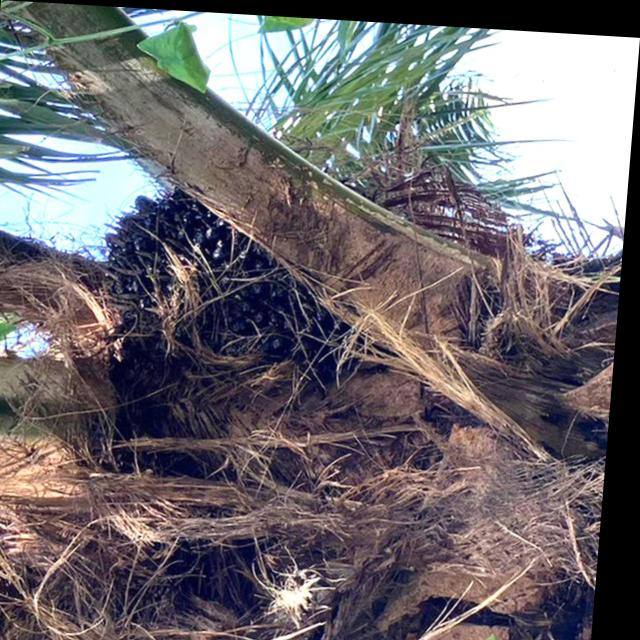unripe: (94, 187, 380, 413)
